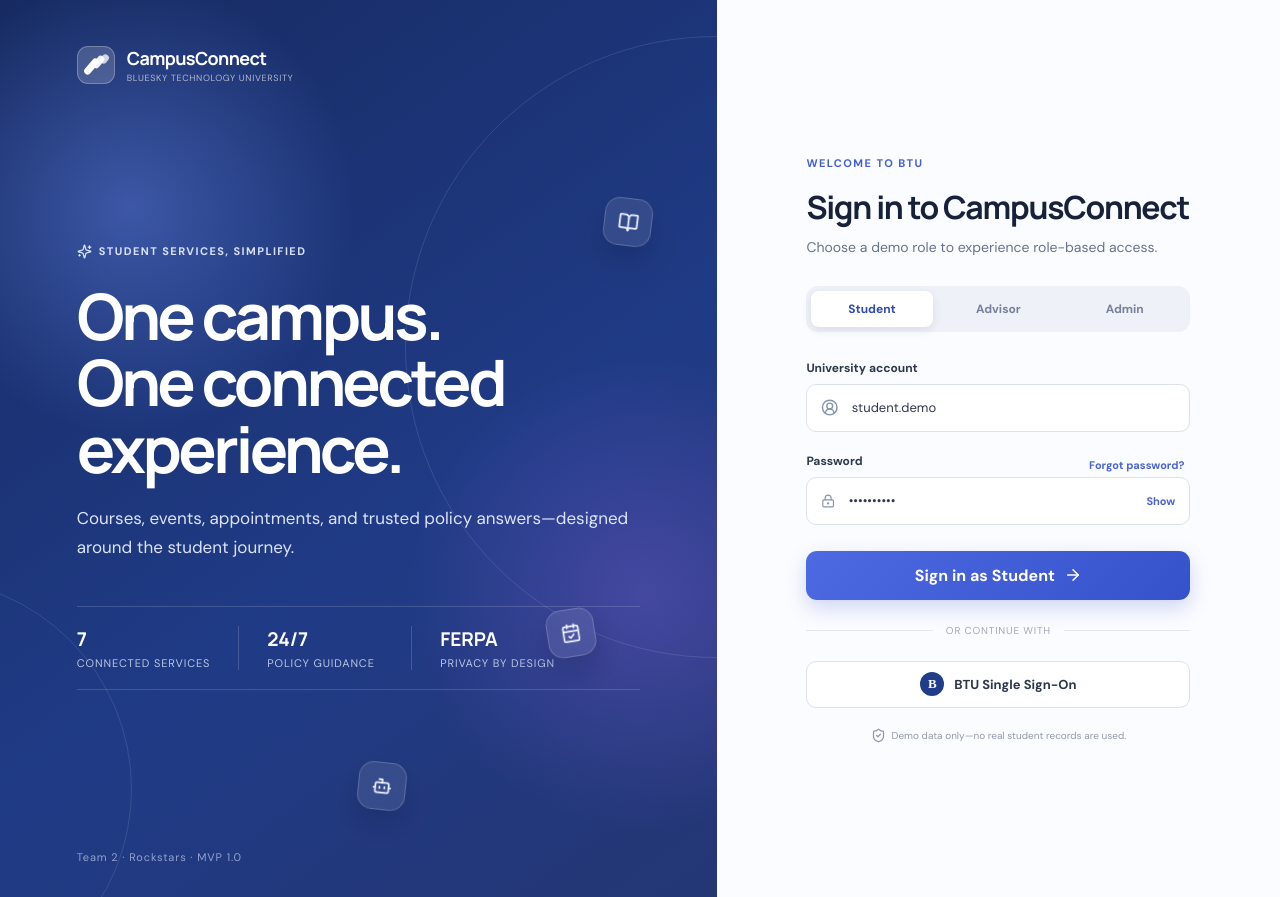
Test case: CampusConnect MVP › supports course enrollment and event RSVP actions
What coordinates should you click on to do the following:
click the button "Sign in as Student"
I would click on:
 (998, 575)
Its box is [806,550,1190,600].
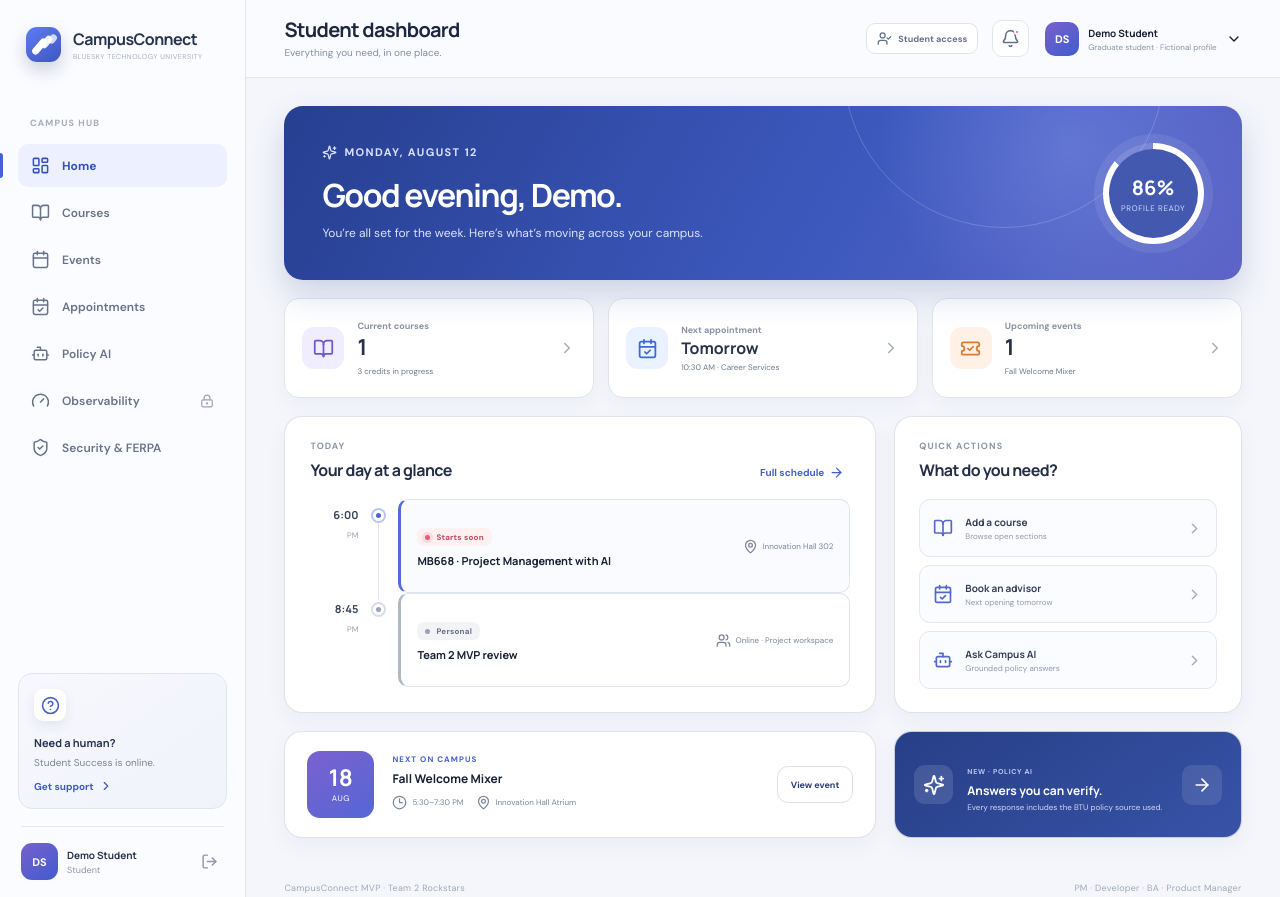
What coordinates should you click on to do the following:
click the button "Courses"
I would click on:
 (122, 212)
Its box is [18,191,227,234].
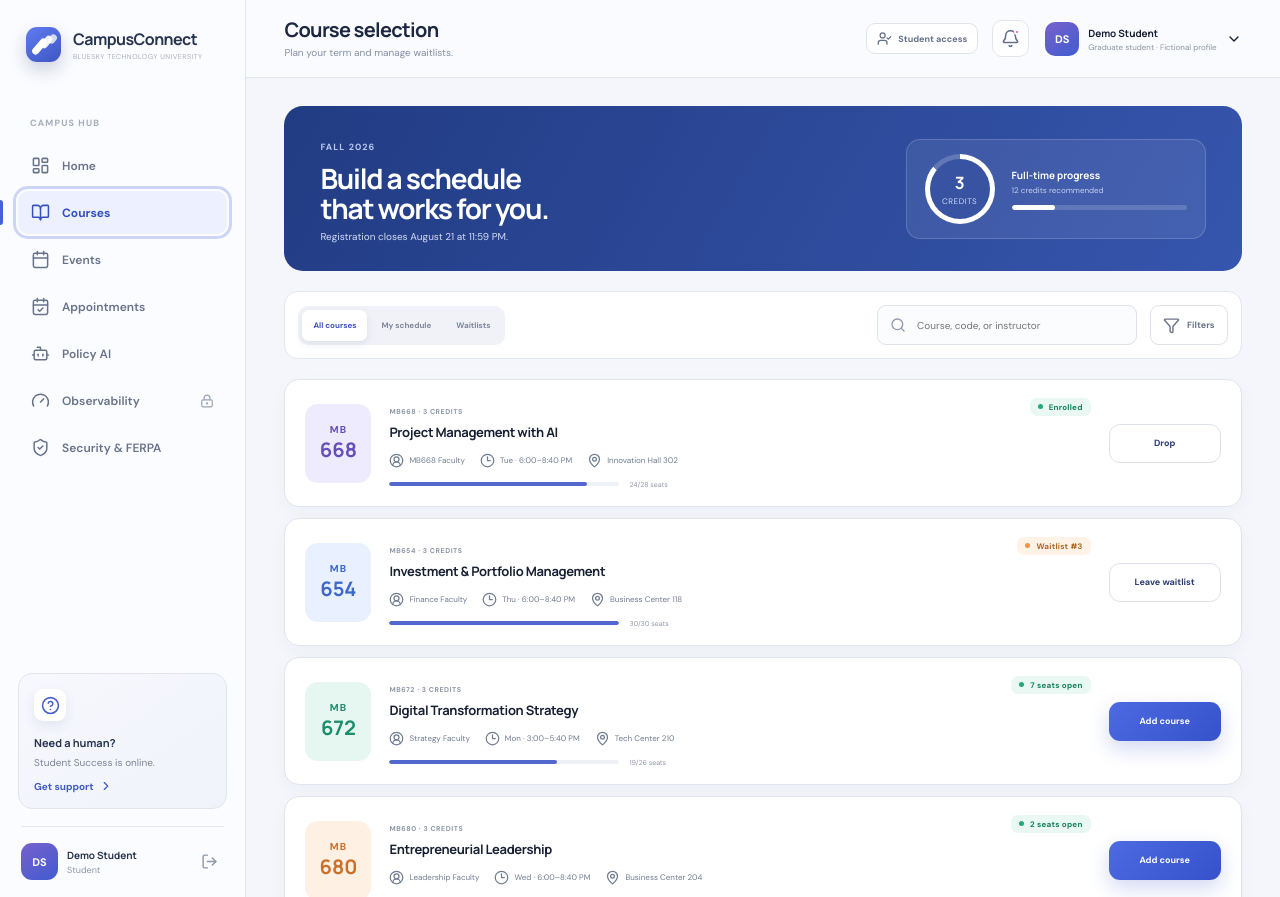
What coordinates should you click on to do the following:
click the button "Add course" in the row of "Tech Center 210"
I would click on:
 (1165, 722)
Its box is [1109,702,1221,741].
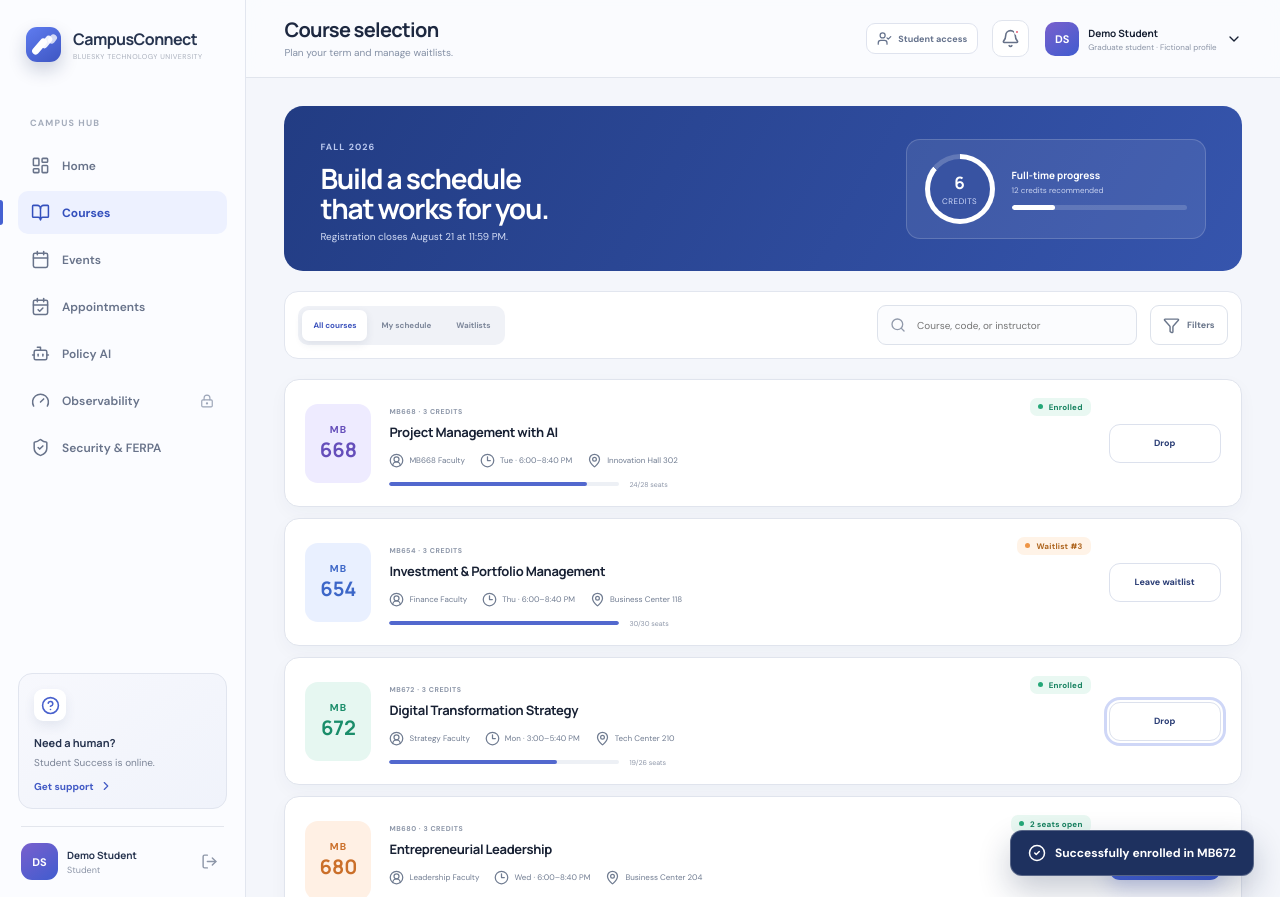
Result: the text "Successfully enrolled in MB672" is shown at [1010,830,1254,876]
What coordinates should you click on to do the following:
click the button "Events"
I would click on:
 (122, 260)
Its box is [18,238,227,281].
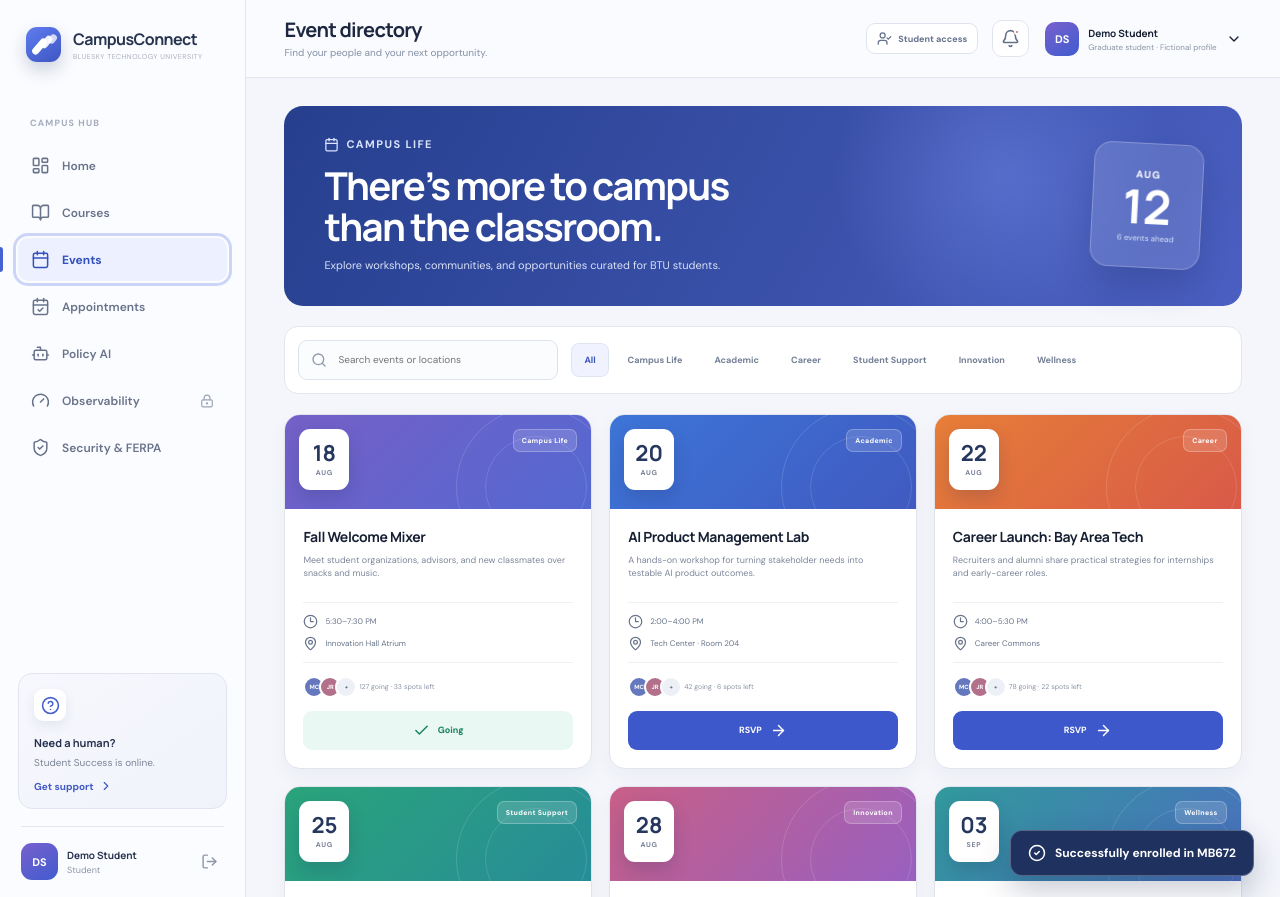
What coordinates should you click on to do the following:
click the button "RSVP" below "42"
I would click on:
 (763, 730)
Its box is [628,710,898,750].
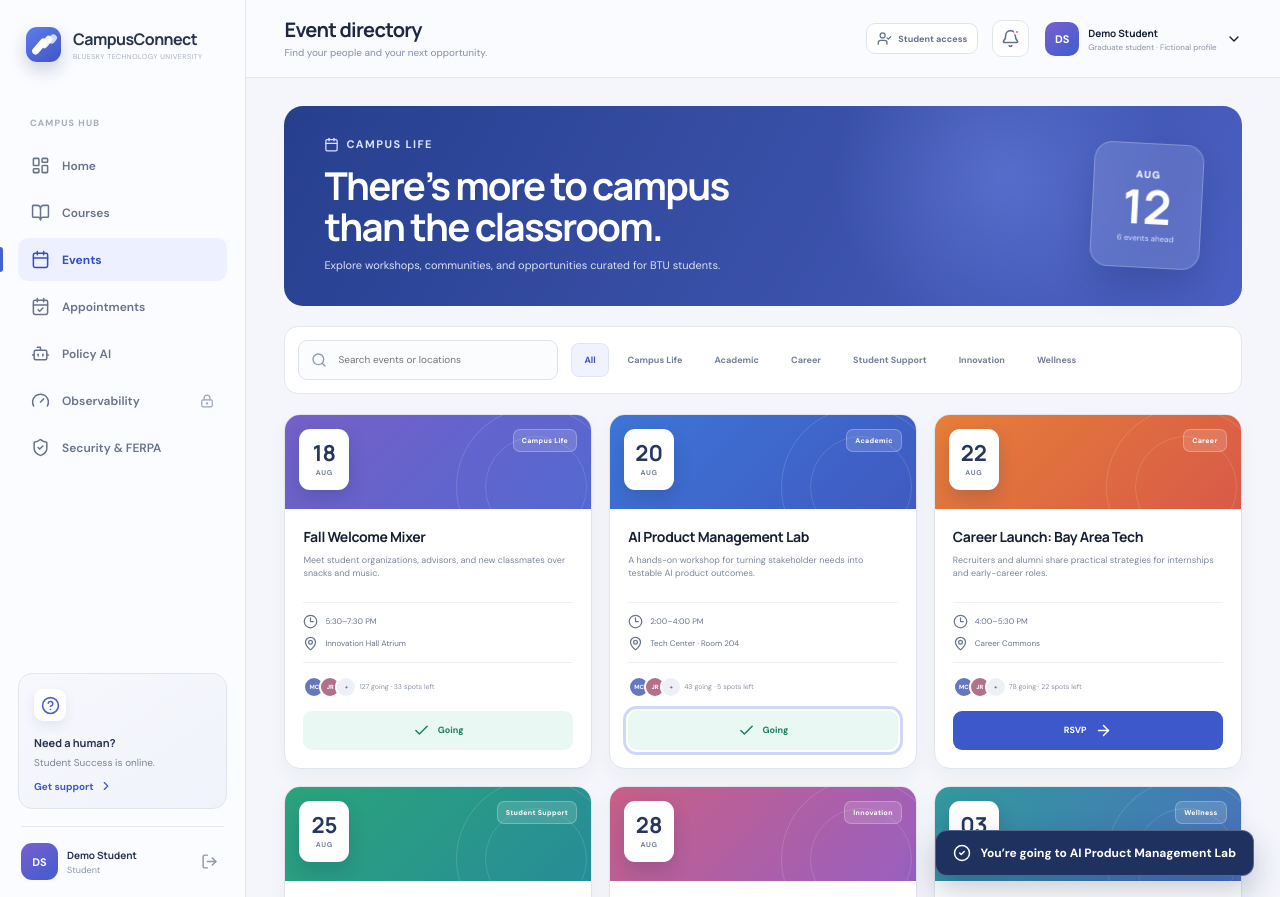
Result: the text "You’re going to AI Product Management Lab" is shown at [935,830,1254,876]
